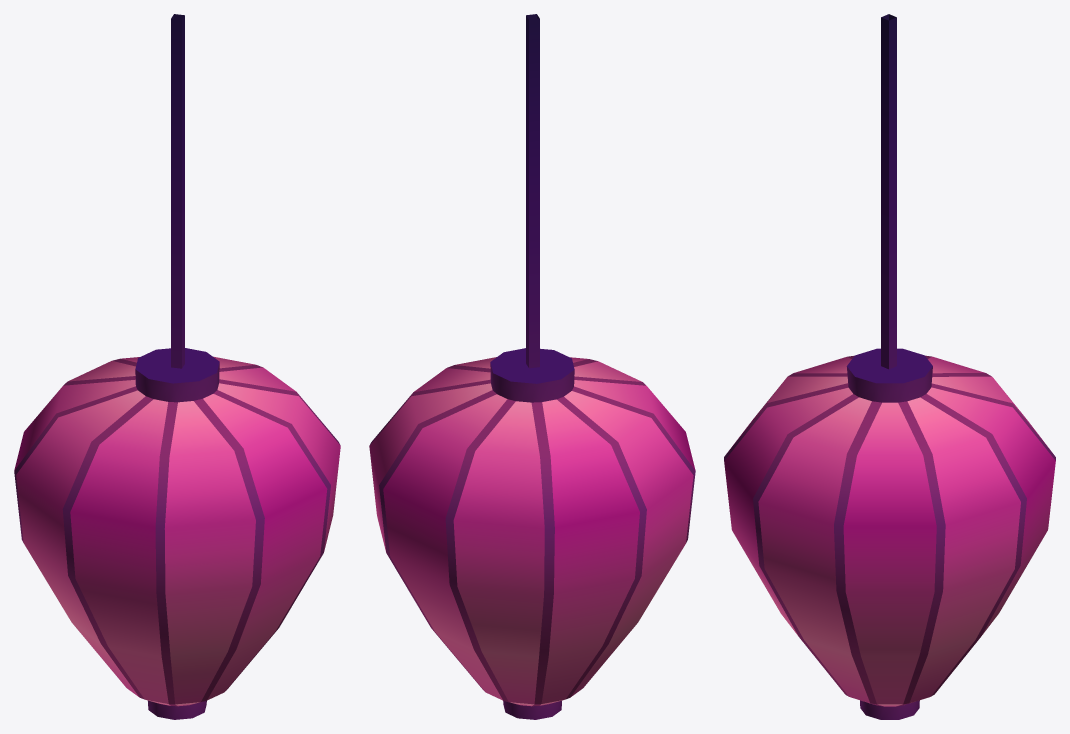
Rendered from Lantern_C_01.FBX.
3 renders of one model, left to right at view 1: azimuth 30°, elevation 25°; view 2: azimuth 150°, elevation 25°; view 3: azimuth 270°, elevation 25°, orthographic.
Parts seen in each view (by area): view 1: Lantern_C_01LIght, Lantern_C_01; view 2: Lantern_C_01LIght, Lantern_C_01; view 3: Lantern_C_01LIght, Lantern_C_01.
Boxes of the visible parts, <box> form: Lantern_C_01LIght: <box>14,356,340,704</box>; Lantern_C_01: <box>135,14,219,719</box>; Lantern_C_01LIght: <box>369,357,695,704</box>; Lantern_C_01: <box>490,14,574,719</box>; Lantern_C_01LIght: <box>724,355,1055,704</box>; Lantern_C_01: <box>846,14,932,719</box>.
Size of the model in its own units: 40.51 by 96.91 by 42.19.
1 material, 1 textured.
